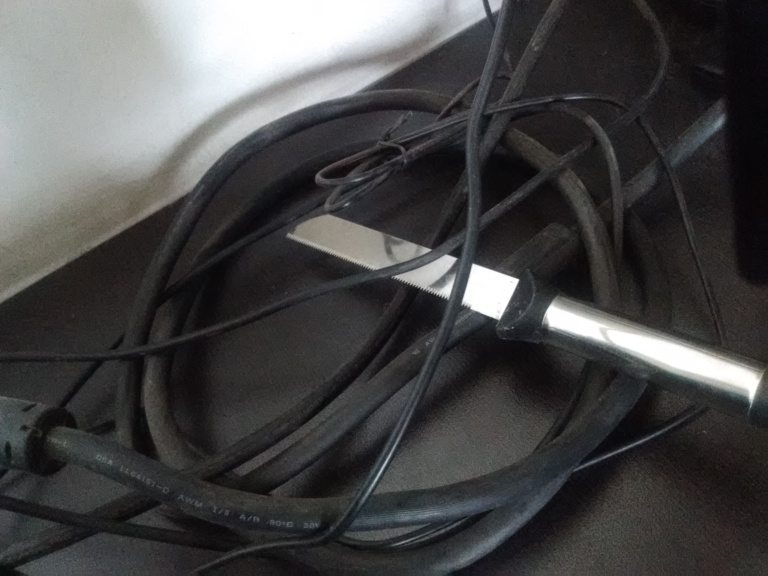knife: (285, 209, 768, 426)
